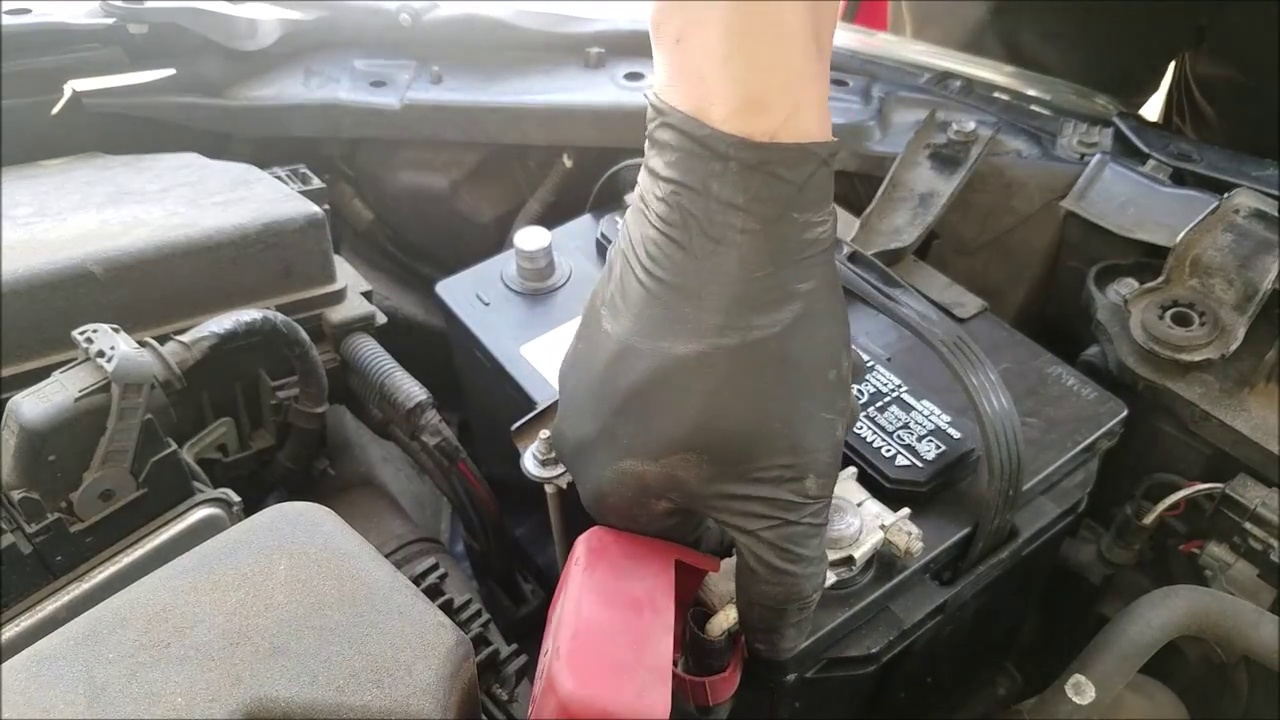battery: (414, 195, 1128, 656)
neg_disconnected: (450, 200, 603, 306)
pos_touched: (564, 446, 926, 693)
